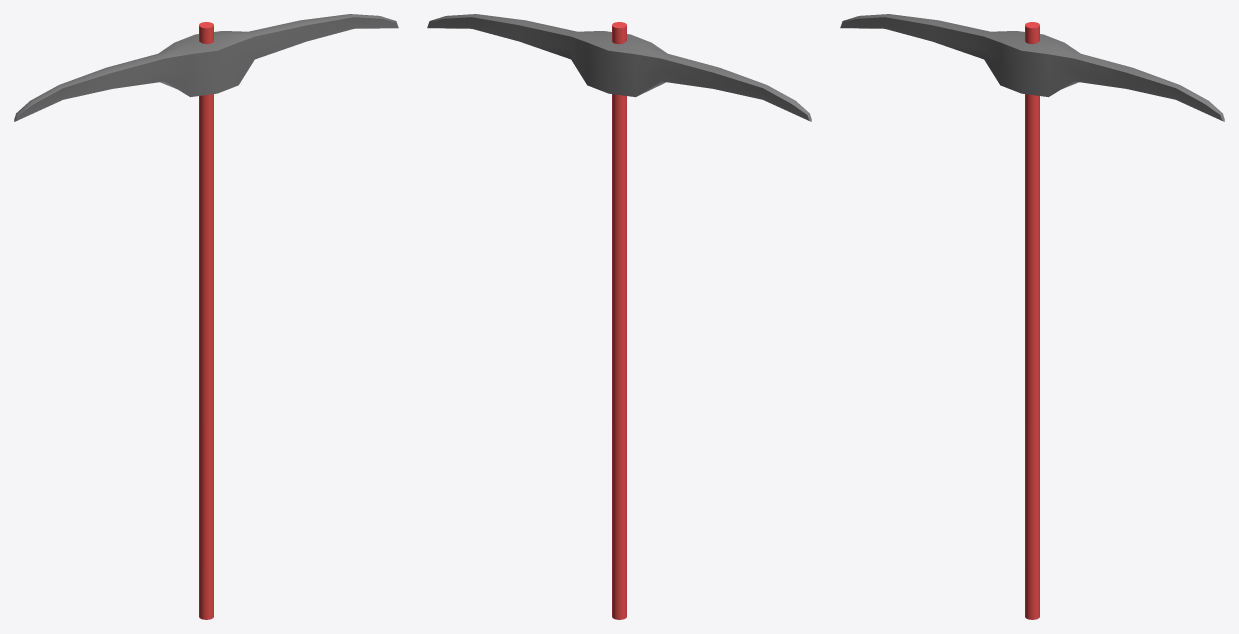
File: 곡갱이.fbx
3 renders of one model, left to right at view 1: azimuth 30°, elevation 25°; view 2: azimuth 150°, elevation 25°; view 3: azimuth 330°, elevation 25°, orthographic.
Parts seen in each view (by area): view 1: rhr2, rhr; view 2: rhr2, rhr; view 3: rhr2, rhr.
Boxes of the visible parts, <box> form: rhr2: <box>14,14,398,121</box>; rhr: <box>199,22,213,619</box>; rhr2: <box>427,14,811,121</box>; rhr: <box>612,22,626,619</box>; rhr2: <box>840,14,1224,121</box>; rhr: <box>1025,22,1039,619</box>.
Size of the model in its own units: 186 by 273 by 18.62.
